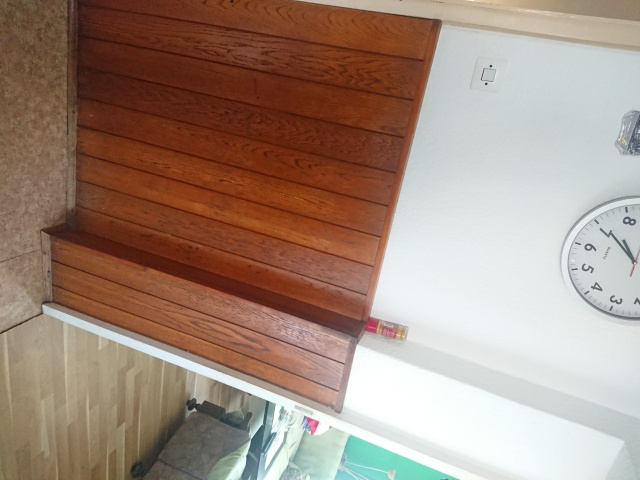Kotanyi Curry Spices Mix 70g: (363, 316, 410, 342)
